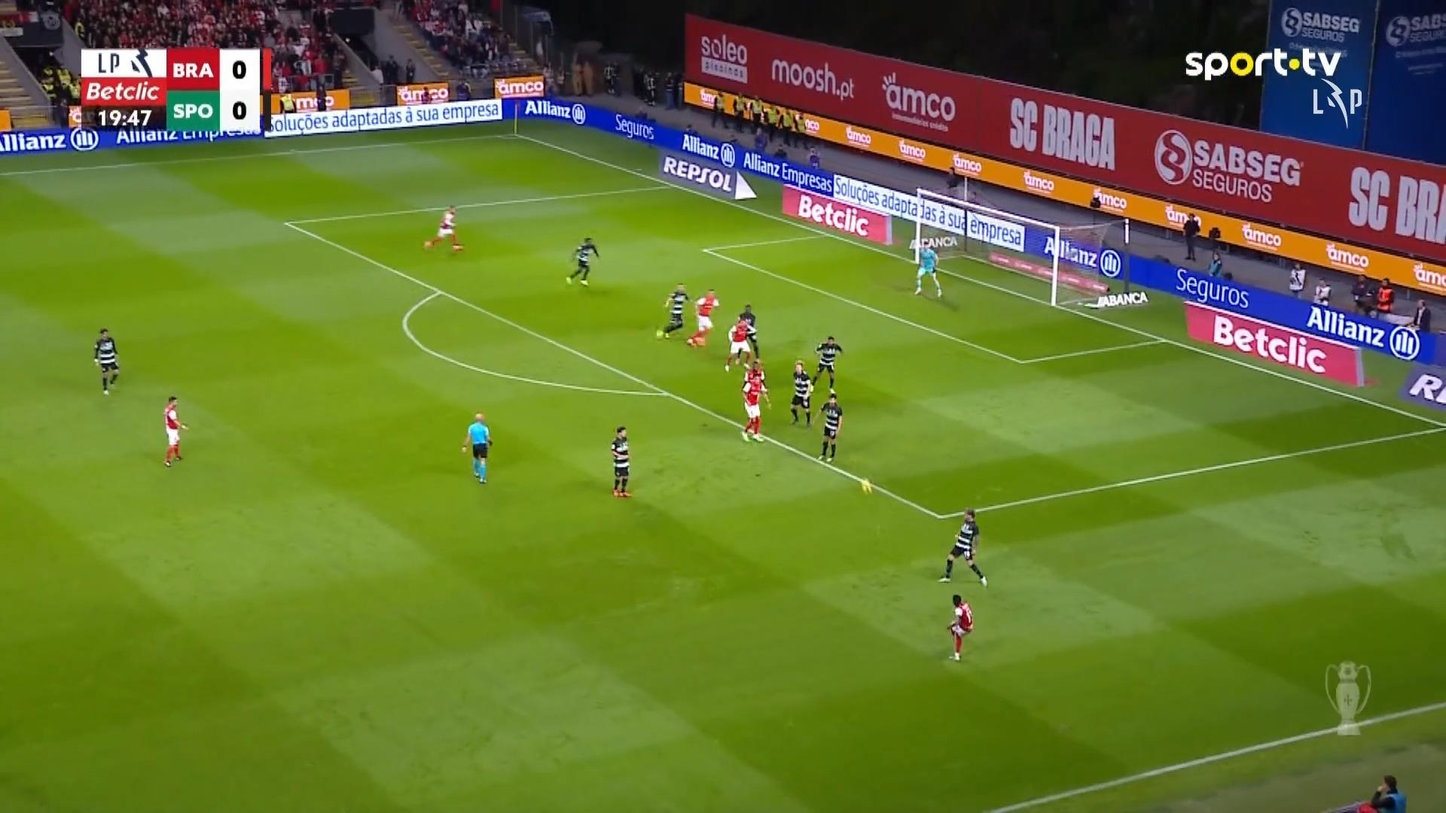ball: (860, 478, 871, 493)
goalkeeper: (911, 239, 943, 297)
player: (938, 507, 987, 587), (740, 367, 770, 442), (654, 282, 690, 340), (685, 288, 719, 347), (422, 204, 464, 251), (816, 391, 843, 462), (812, 334, 843, 395), (162, 395, 188, 467), (946, 593, 973, 661), (93, 327, 120, 395), (564, 236, 599, 287), (724, 314, 755, 371), (789, 360, 813, 428), (610, 425, 631, 497), (738, 302, 760, 362)
referee: (461, 412, 493, 483)
